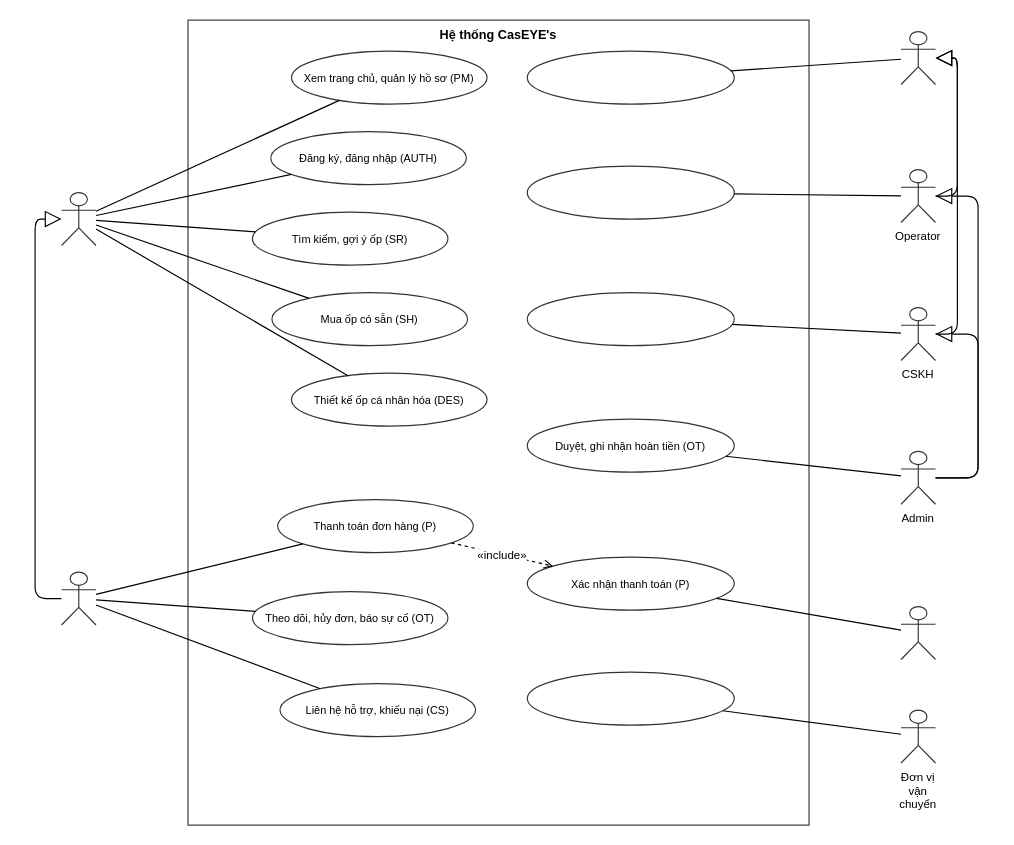
The diagram is 1014 pixels wide and 845 high, and some of its shapes have lost their labels. The box of each missing label's shape, as (x1, y1, x2, y2) in pixels:
Cập nhật trạng thái giao (OT): (526, 671, 734, 725)
Cổng thanh toán: (900, 605, 936, 660)
Duyệt thiết kế, sản xuất, đóng gói (OT): (526, 165, 734, 219)
Khách hàng: (60, 571, 96, 625)
Khách vãng lai: (60, 191, 96, 246)
Nhân viên: (900, 30, 936, 85)
Xử lý yêu cầu hủy, khiếu nại (OT, CS): (526, 292, 734, 346)
Đăng nhập nhân viên theo vai trò (AUTH): (526, 50, 734, 104)
